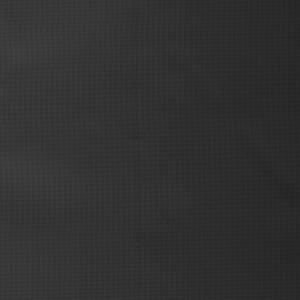Wrinkle: (160, 36, 300, 209)
